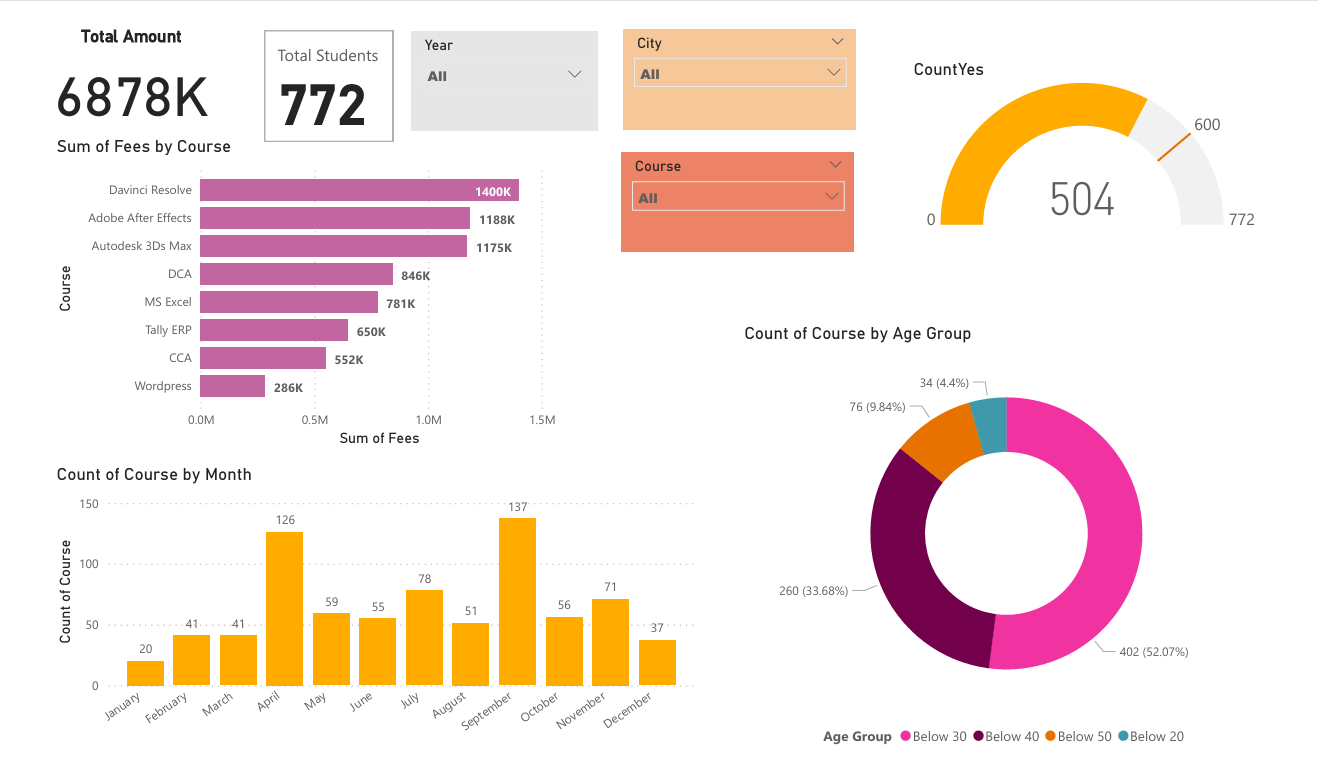

Layout of this report page (visuals, bound fields, positions):
{"tool":"powerbi","page":{"name":"ABC Report","canvas":[1280,720],"ordinal":0},"visuals":[{"type":"clusteredColumnChart","fields":{"Category":["Student Course Details.Date of Join.Variation.Date Hierarchy.Year","Student Course Details.Date of Join.Variation.Date Hierarchy.Quarter","Student Course Details.Date of Join.Variation.Date Hierarchy.Month","Student Course Details.Date of Join.Variation.Date Hierarchy.Day"],"Y":["CountNonNull(Student Course Details.Course)"]},"box":[34.3,432.9,640,287.1],"z":0},{"type":"donutChart","fields":{"Y":["CountNonNull(Student Course Details.Course)"],"Category":["Student Course Details.Age Group"]},"box":[712.9,294.3,527.1,425.7],"z":1000},{"type":"clusteredBarChart","fields":{"Category":["Student Course Details.Course"],"Y":["Sum(Student Course Details.Fees)"]},"box":[34.3,108.6,518.6,312.9],"z":2000},{"type":"card","title":"Total Amount","fields":{"Values":["Sum(Student Course Details.Fees)"]},"box":[0,0,225.7,108.6],"z":3000},{"type":"cardVisual","fields":{"Data":["CountNonNull(Student Course Details.Student Name)"]},"box":[238.6,0,137.1,120],"z":4000},{"type":"gauge","fields":{"Y":["Personal Details.CountYes"]},"box":[880,32.9,360,174.3],"z":5000},{"type":"slicer","fields":{"Values":["Student Course Details.Date of Join.Variation.Date Hierarchy.Year"]},"box":[388.6,5.7,184.3,98.6],"z":5001},{"type":"slicer","fields":{"Values":["Personal Details.City"]},"box":[598.6,4.3,230,98.6],"z":5002},{"type":"slicer","fields":{"Values":["Student Course Details.Course"]},"box":[597.1,125.7,230,98.6],"z":5003}]}

Visuals, with their boxes on the page's 1280x720 design canvas (x1, y1, x2, y2). These are canvas units, not pixel positions in the 1318x767 screenshot, which may show the page scaled, cropped or inside an application window:
clusteredColumnChart - Student Course Details.Date of Join.Variation.Date Hierarchy.Year x Student Course Details.Date of Join.Variation.Date Hierarchy.Quarter: bbox(34, 433, 674, 720)
donutChart - CountNonNull(Student Course Details.Course) x Student Course Details.Age Group: bbox(713, 294, 1240, 720)
clusteredBarChart - Student Course Details.Course x Sum(Student Course Details.Fees): bbox(34, 109, 553, 422)
"Total Amount" card: bbox(0, 0, 226, 109)
cardVisual - CountNonNull(Student Course Details.Student Name): bbox(239, 0, 376, 120)
gauge - Personal Details.CountYes: bbox(880, 33, 1240, 207)
slicer - Student Course Details.Date of Join.Variation.Date Hierarchy.Year: bbox(389, 6, 573, 104)
slicer - Personal Details.City: bbox(599, 4, 829, 103)
slicer - Student Course Details.Course: bbox(597, 126, 827, 224)
